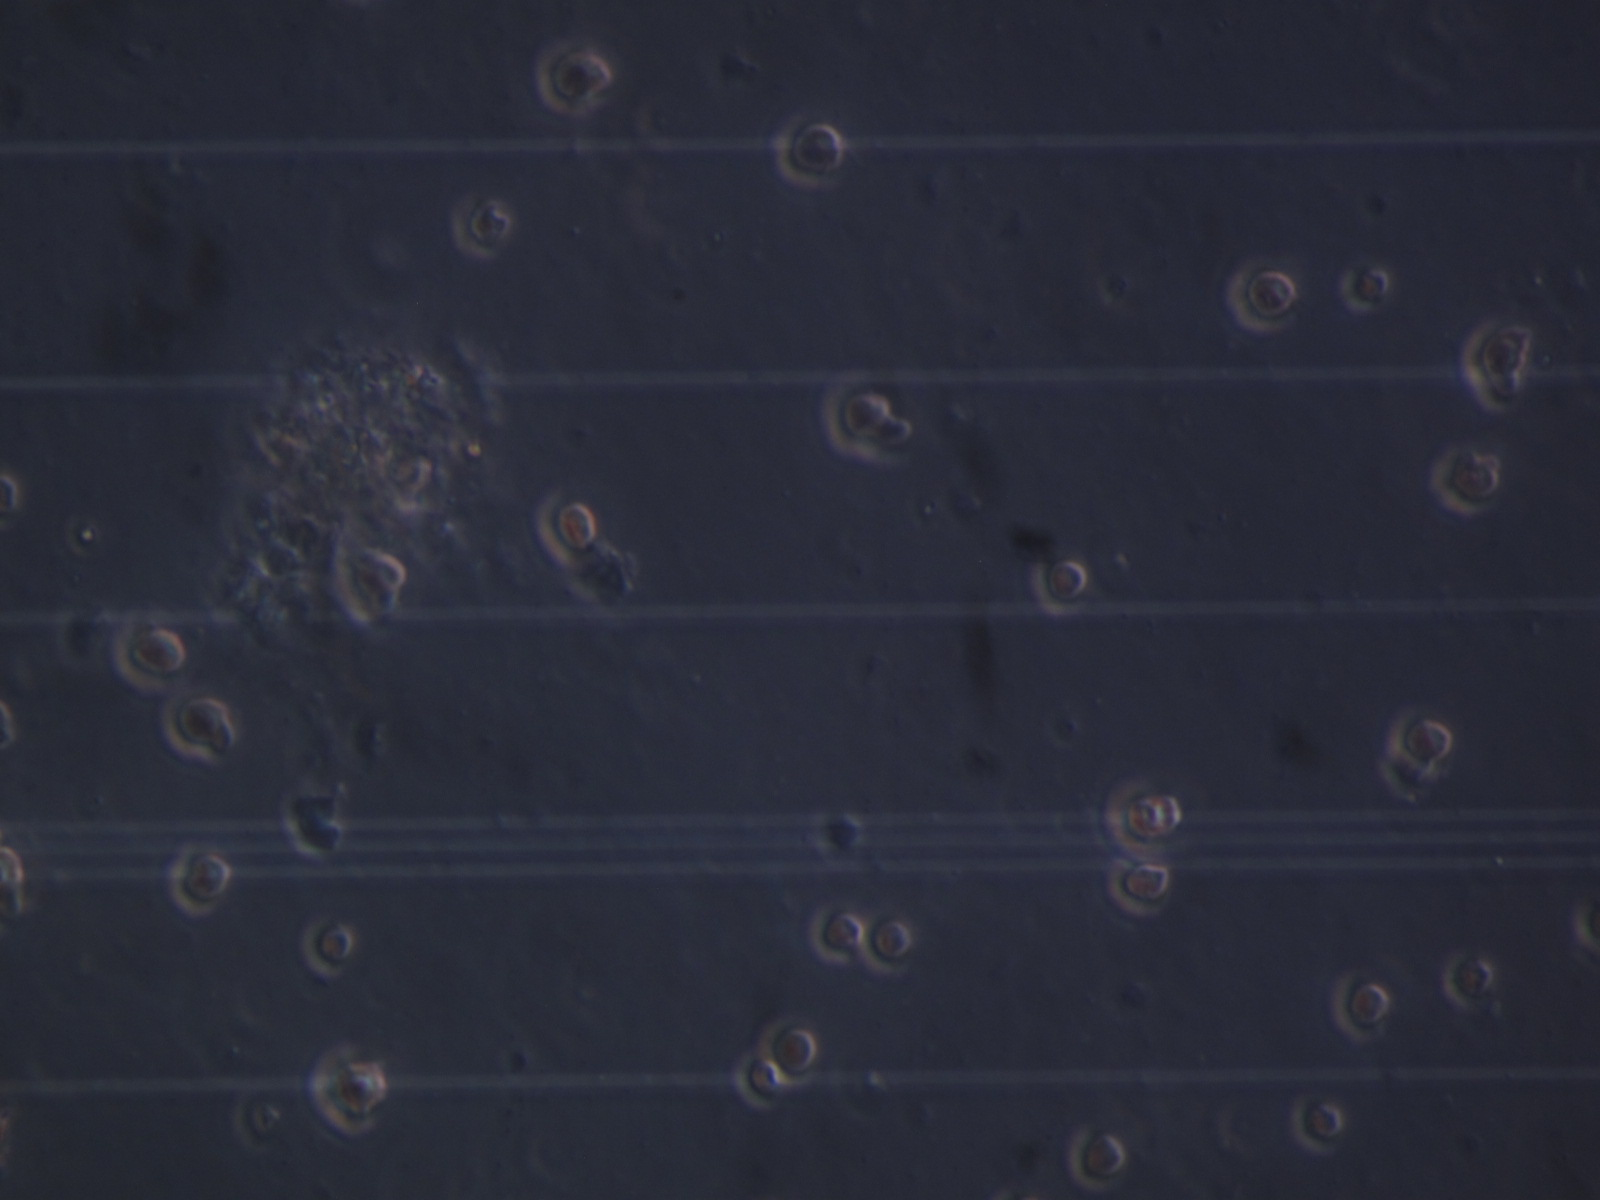hemo: (306, 1042, 392, 1136), (530, 33, 611, 110), (1101, 782, 1191, 847), (115, 616, 186, 695), (771, 113, 844, 185), (1225, 258, 1296, 332), (821, 374, 892, 447), (1430, 445, 1502, 516), (164, 688, 233, 756), (758, 1013, 819, 1090), (1333, 969, 1392, 1047), (533, 488, 597, 560), (449, 190, 513, 260), (1107, 853, 1177, 916), (1067, 1126, 1131, 1191), (173, 846, 228, 914), (1031, 556, 1091, 618), (806, 903, 866, 966), (1390, 708, 1454, 766), (1460, 324, 1528, 378), (866, 905, 913, 981), (307, 913, 358, 979), (734, 1046, 784, 1112), (863, 418, 916, 474), (1291, 1099, 1344, 1155), (1340, 257, 1391, 313), (1445, 950, 1493, 1008), (1454, 372, 1524, 408)
